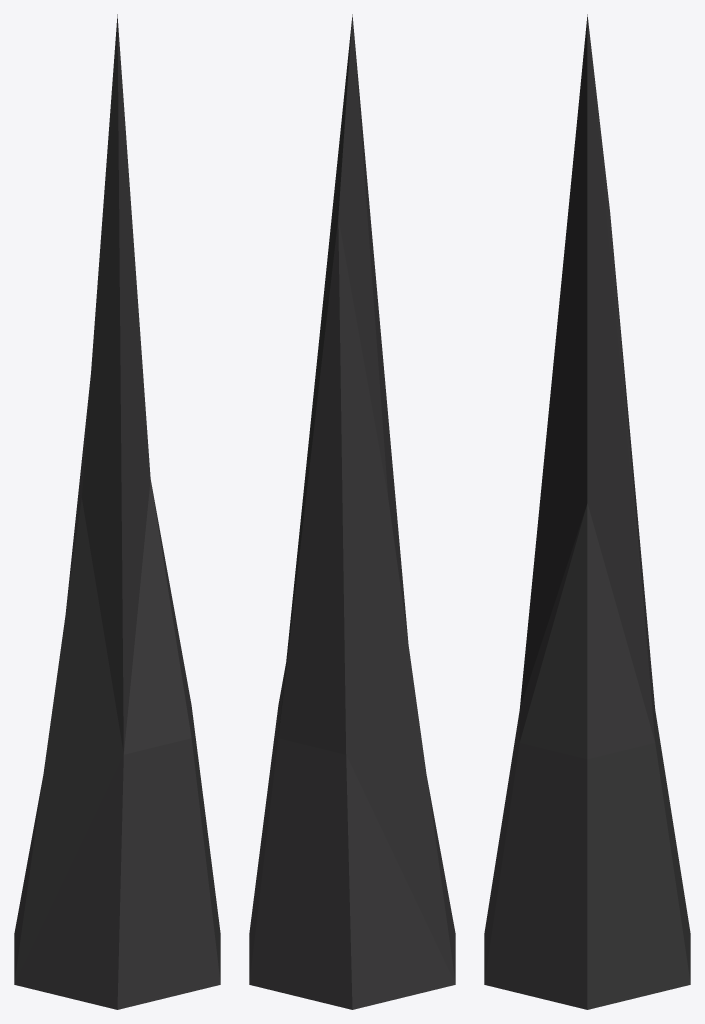
Rendered from Stal_5_LOD.fbx.
3 renders of one model, left to right at view 1: azimuth 30°, elevation 25°; view 2: azimuth 150°, elevation 25°; view 3: azimuth 270°, elevation 25°, orthographic.
Visible parts, largest first — view 1: pCone46; view 2: pCone46; view 3: pCone46.
Part boxes in pixels (box(x1,y1,x2,y2)): pCone46: box(14, 14, 220, 1009); pCone46: box(249, 14, 455, 1009); pCone46: box(484, 14, 690, 1009).
Bounding box in the file's own units: 1.37 × 6 × 1.19.
